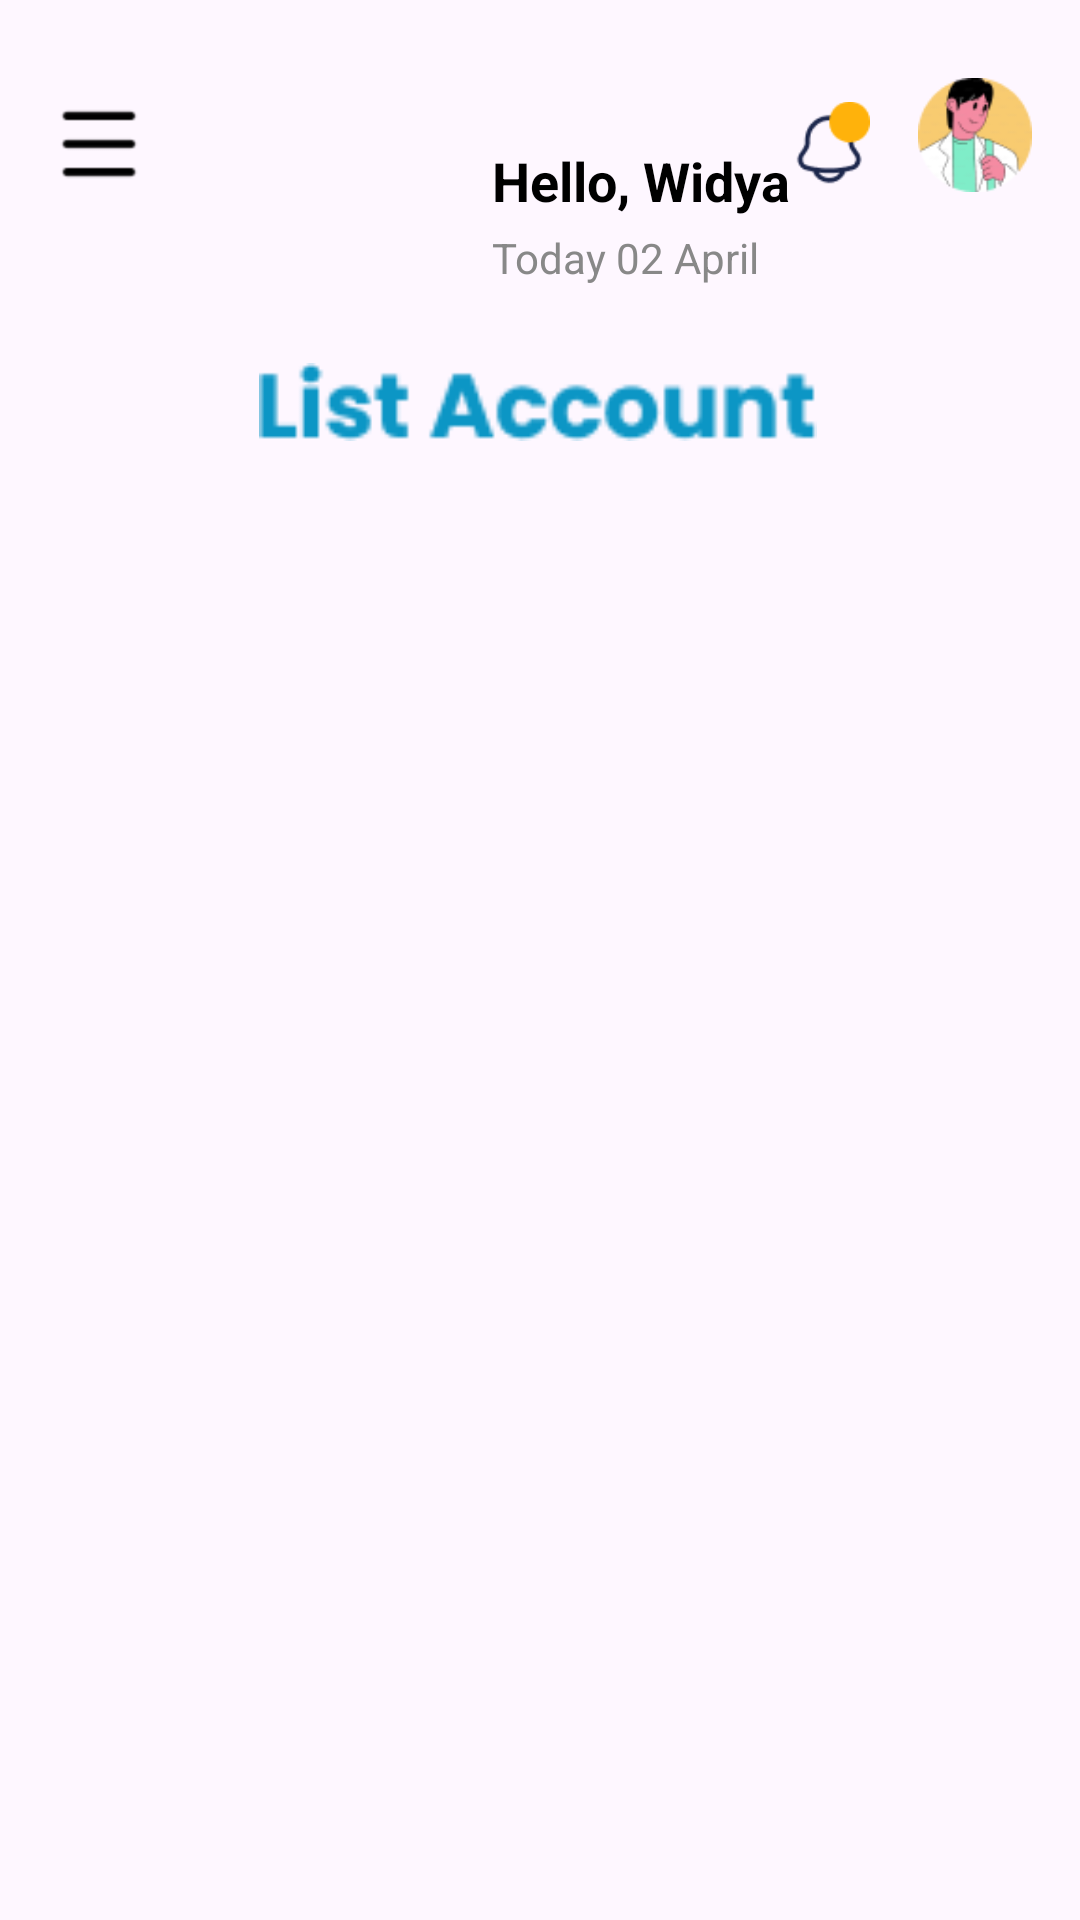

Where to tap for icons on this 1080×1920 app screen, as (x=x, y=y):
notifikasi: (x=833, y=143)
profile: (x=975, y=135)
